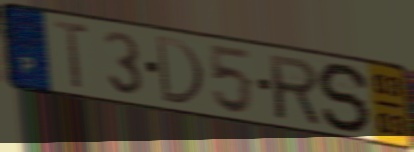3: (102, 30, 146, 98)
5: (205, 41, 257, 116)
D: (152, 32, 208, 108)
R: (266, 52, 325, 129)
S: (315, 61, 375, 135)
T: (51, 17, 91, 92)
